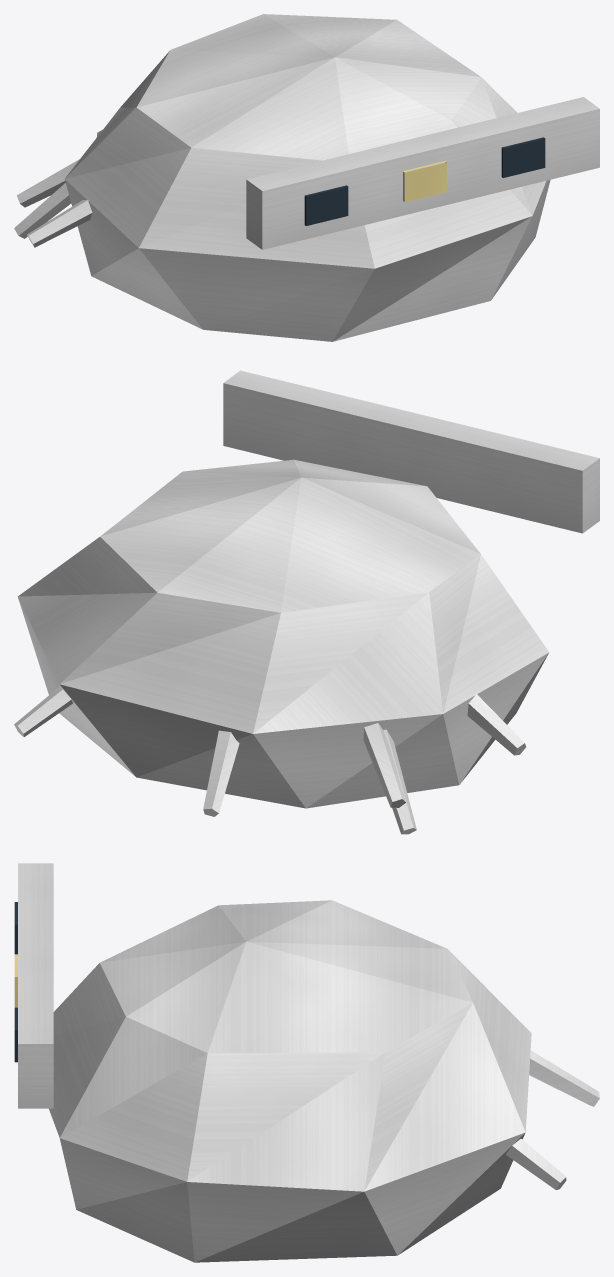
The model's file is warwalker_torso.obj.
The picture shows the model from 3 angles, top to bottom: view 1: azimuth 30°, elevation 25°; view 2: azimuth 150°, elevation 25°; view 3: azimuth 270°, elevation 25°; orthographic projection. The views are drawn at different scales.
Visible parts, largest first — view 1: warwalker_torso; view 2: warwalker_torso; view 3: warwalker_torso.
Part boxes in pixels (x1=…): warwalker_torso: x1=14, y1=14, x2=599, y2=341; warwalker_torso: x1=14, y1=370, x2=599, y2=834; warwalker_torso: x1=14, y1=863, x2=599, y2=1262.
Size of the model in its own units: 3.35 by 1.41 by 3.29.
